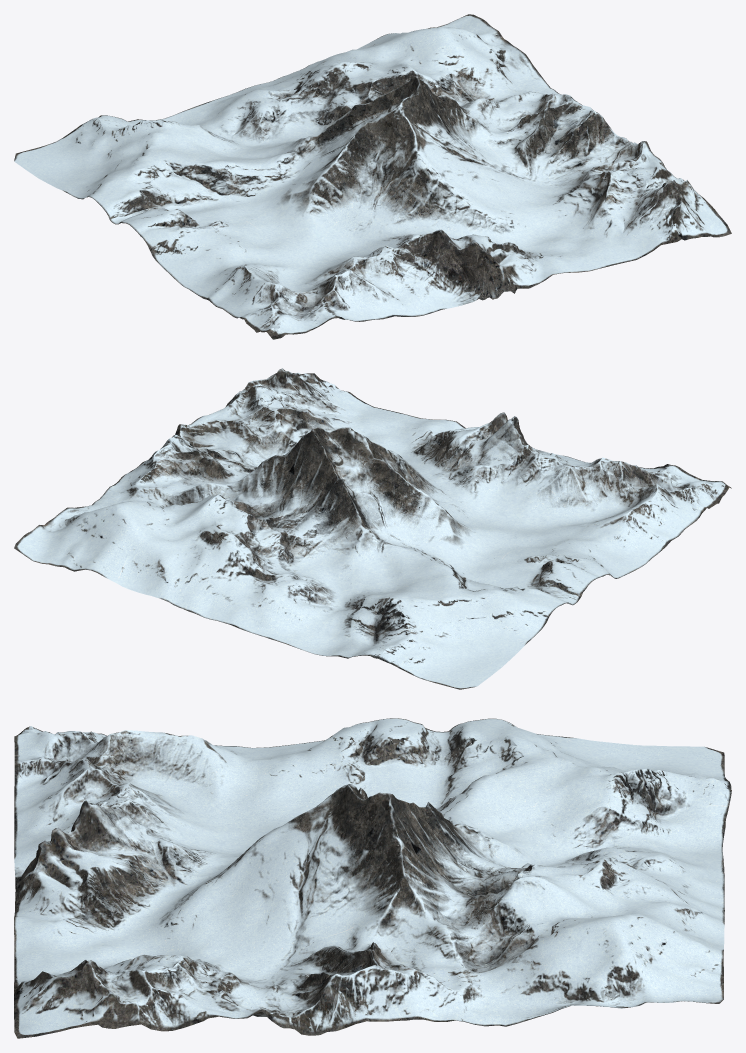
Rendered from snow_mountain.glb.
3 renders of one model, top to bottom at view 1: azimuth 30°, elevation 25°; view 2: azimuth 150°, elevation 25°; view 3: azimuth 270°, elevation 25°, orthographic. The views are drawn at different scales.
Visible parts, largest first — view 1: Object_2; view 2: Object_2; view 3: Object_2.
Boxes of the visible parts, left/top/right/bottom form: Object_2: left=14, top=14, right=731, bottom=339; Object_2: left=14, top=368, right=731, bottom=689; Object_2: left=14, top=718, right=731, bottom=1038.
Bounding box in the file's own units: 5.9 × 1.28 × 5.9.
1 material, 1 textured.
